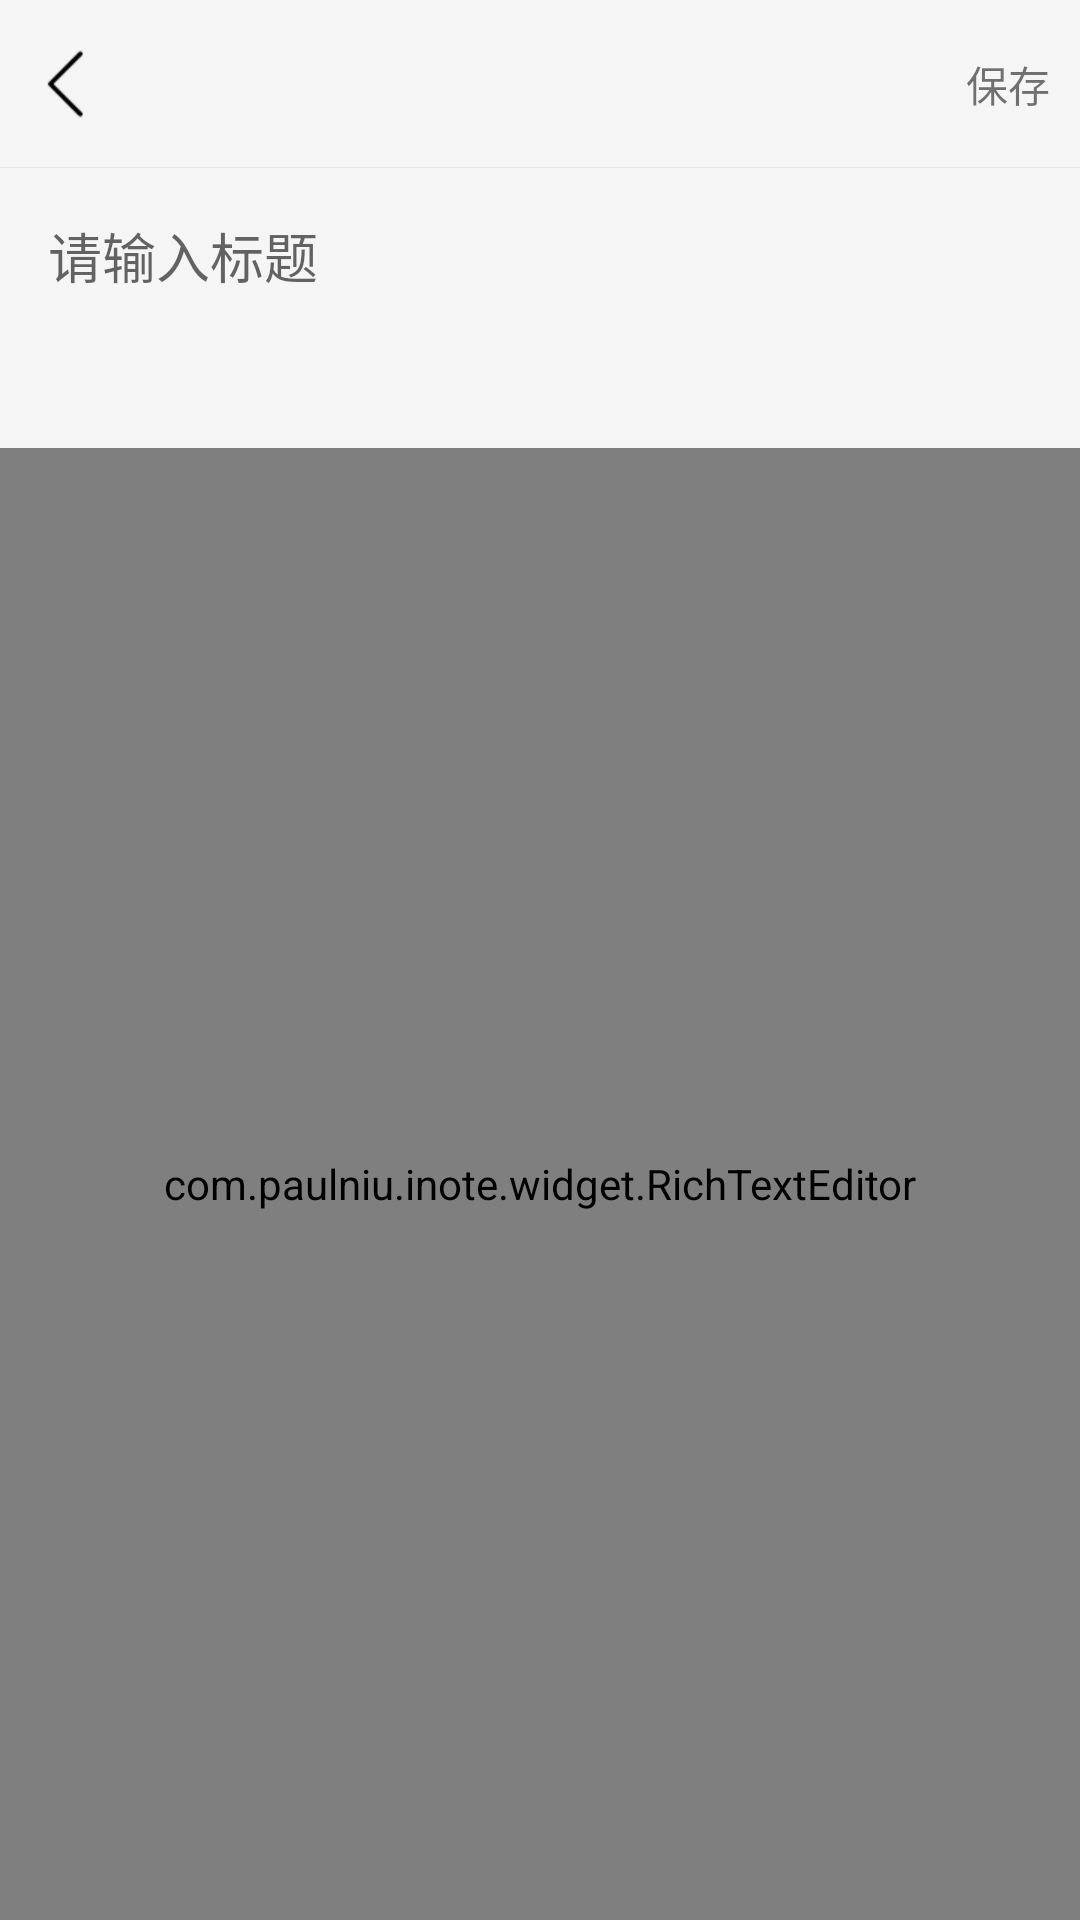

Screen size 1080×1920. Icon name, then its box in pixels as BBox(x1, y1, x2, y2):
arrow left: BBox(47, 51, 83, 117)
